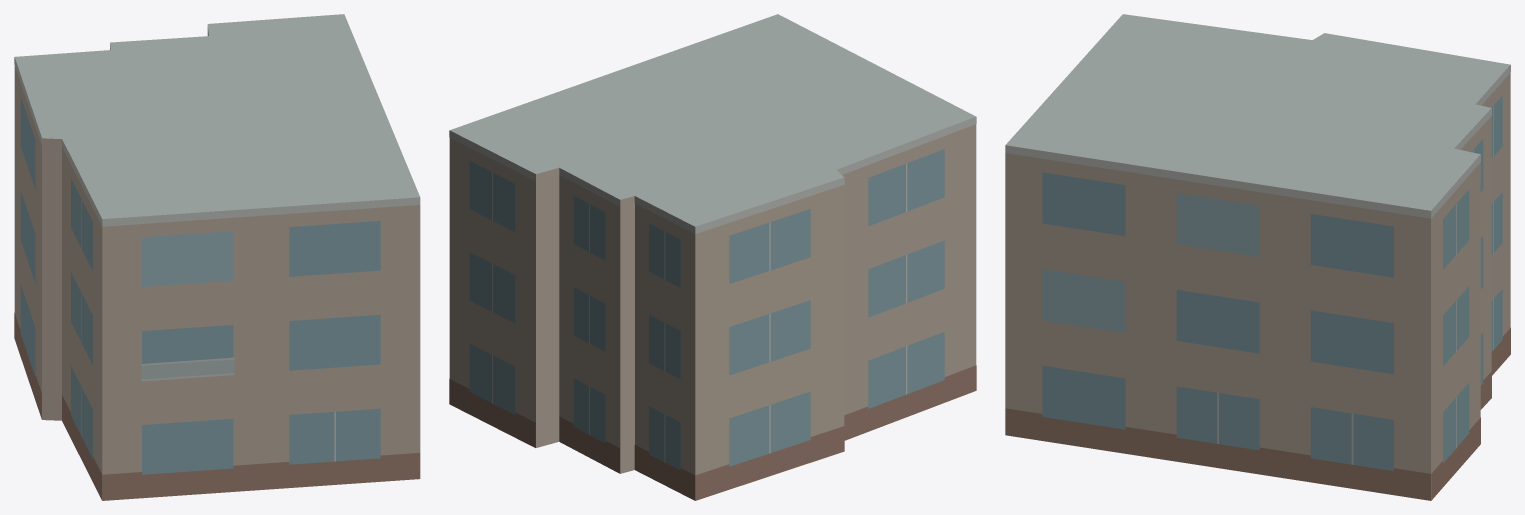
Rendered from survey-upis-32879501.glb.
The picture shows the model from 3 angles, left to right: view 1: azimuth 30°, elevation 25°; view 2: azimuth 150°, elevation 25°; view 3: azimuth 270°, elevation 25°; orthographic projection. The views are drawn at different scales.
Parts seen in each view (by area): view 1: survey-upis-32879501.tmp; view 2: survey-upis-32879501.tmp; view 3: survey-upis-32879501.tmp.
Boxes of the visible parts, bbox=[...] form: survey-upis-32879501.tmp: bbox=[14, 14, 420, 500]; survey-upis-32879501.tmp: bbox=[449, 14, 976, 500]; survey-upis-32879501.tmp: bbox=[1005, 14, 1510, 500].
Bounding box in the file's own units: 13.26 × 9.1 × 14.38.
